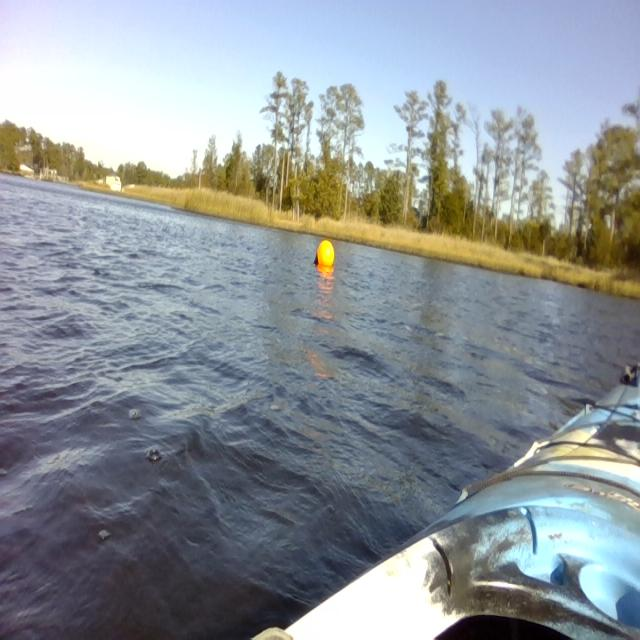Buoy: (307, 230, 341, 282)
